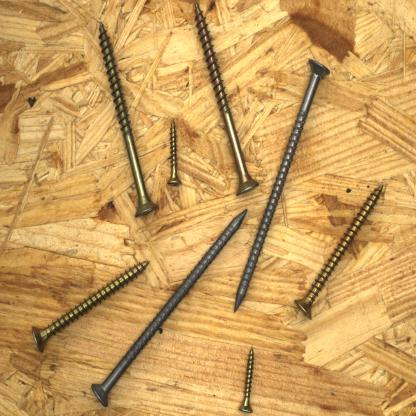screw: (90, 206, 251, 408), (232, 55, 332, 317), (193, 1, 260, 197), (293, 182, 386, 323), (98, 18, 160, 220), (30, 256, 152, 354), (238, 345, 256, 414), (167, 115, 183, 188)
